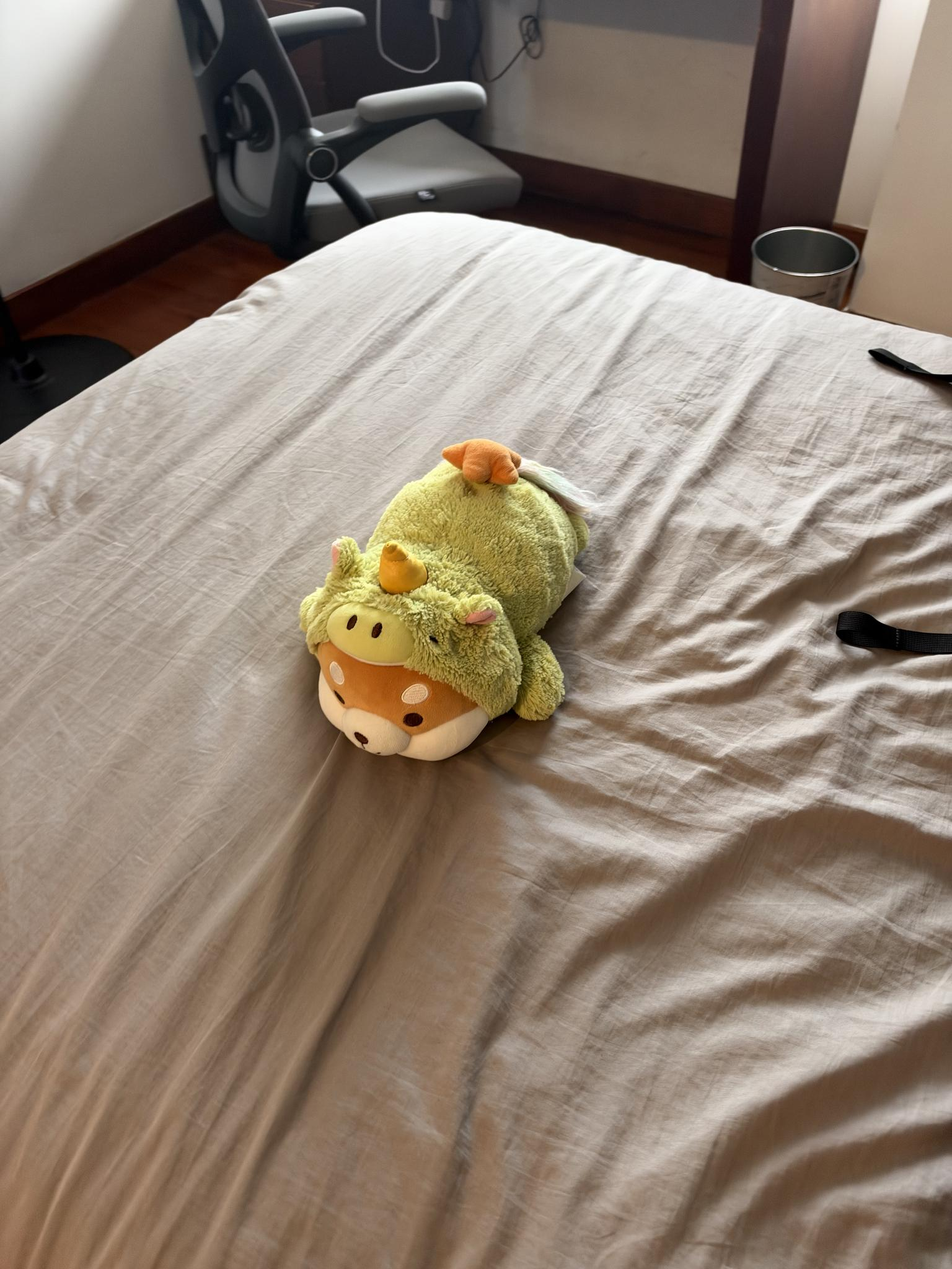peluche_martin: (298, 438, 597, 762)
